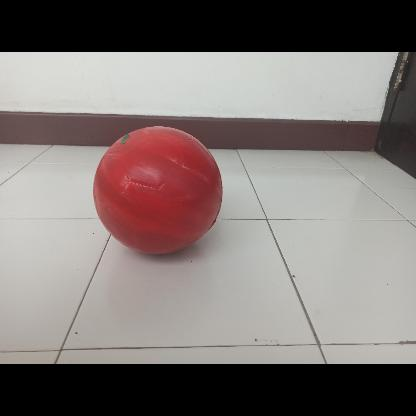red_ball: (94, 126, 220, 252)
